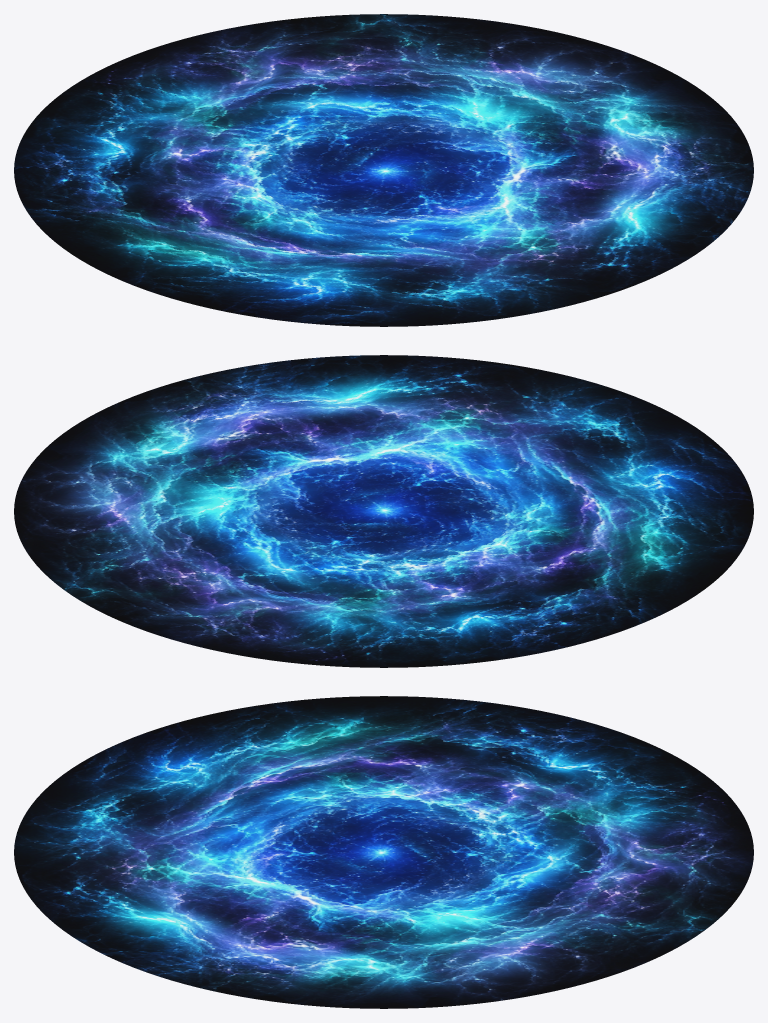
Rendered from portal_disc.glb.
3 views of the same model, one above another, from view 1: azimuth 30°, elevation 25°; view 2: azimuth 150°, elevation 25°; view 3: azimuth 270°, elevation 25° (orthographic).
Visible parts, largest first — view 1: Stargate_Portal; view 2: Stargate_Portal; view 3: Stargate_Portal.
Part boxes in pixels (x1,y1,x2,y2): Stargate_Portal: [14, 14, 753, 326]; Stargate_Portal: [14, 355, 753, 667]; Stargate_Portal: [14, 696, 753, 1008].
Size of the model in its own units: 7.2 by 0 by 7.2.
Materials: 1 (1 with a texture image).
